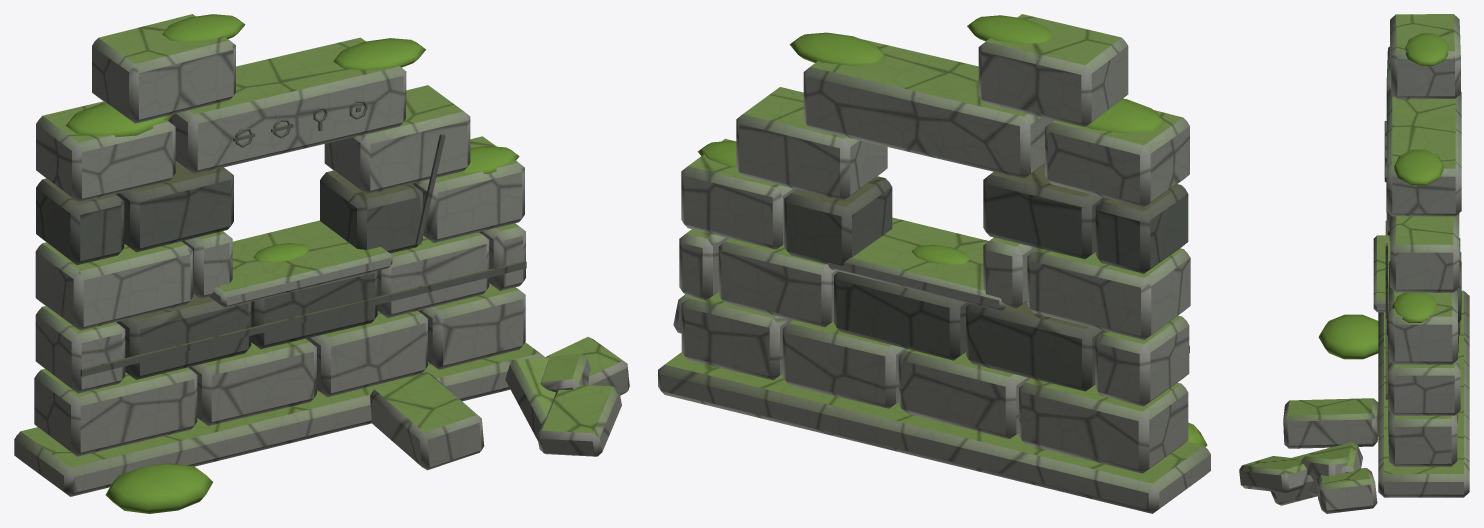
File: stone_wall_window.glb
3 views of the same model, side by side, from view 1: azimuth 30°, elevation 25°; view 2: azimuth 150°, elevation 25°; view 3: azimuth 270°, elevation 25° (orthographic). The views are drawn at different scales.
Parts seen in each view (by area): view 1: stone_wall_window; view 2: stone_wall_window; view 3: stone_wall_window.
Boxes of the visible parts, left/top/right/bottom form: stone_wall_window: left=14, top=14, right=629, bottom=513; stone_wall_window: left=658, top=14, right=1210, bottom=513; stone_wall_window: left=1239, top=14, right=1469, bottom=513.
Bounding box in the file's own units: 4.17 × 3.24 × 1.97.
Materials: 3 (3 with a texture image).
